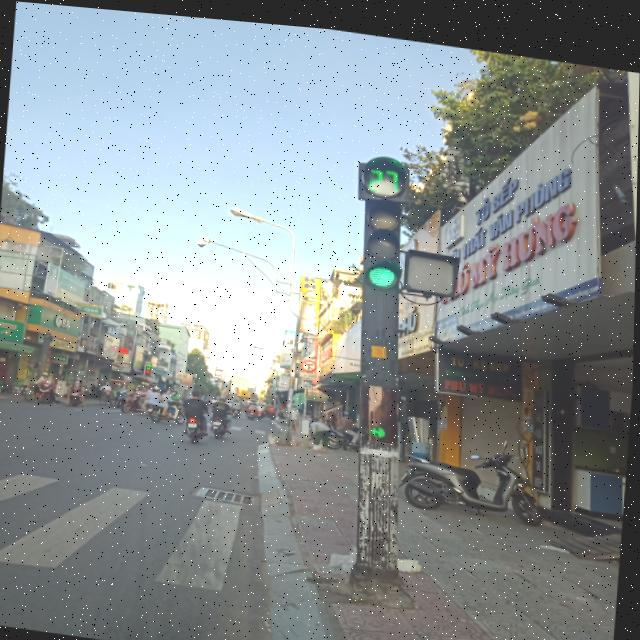Green: (356, 186, 414, 286), (350, 364, 408, 442)
